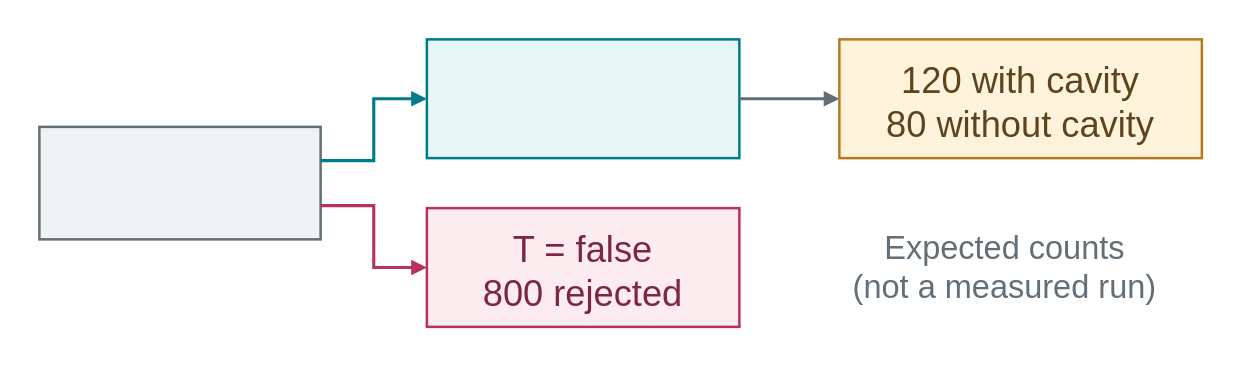
Image size: 1241x366. Some labels were removed from this diagram. The centre of each missing label's shape, as x and y in pixels:
1,000 prior samples: the point at 179,182
T = true 200 kept: the point at 582,98
